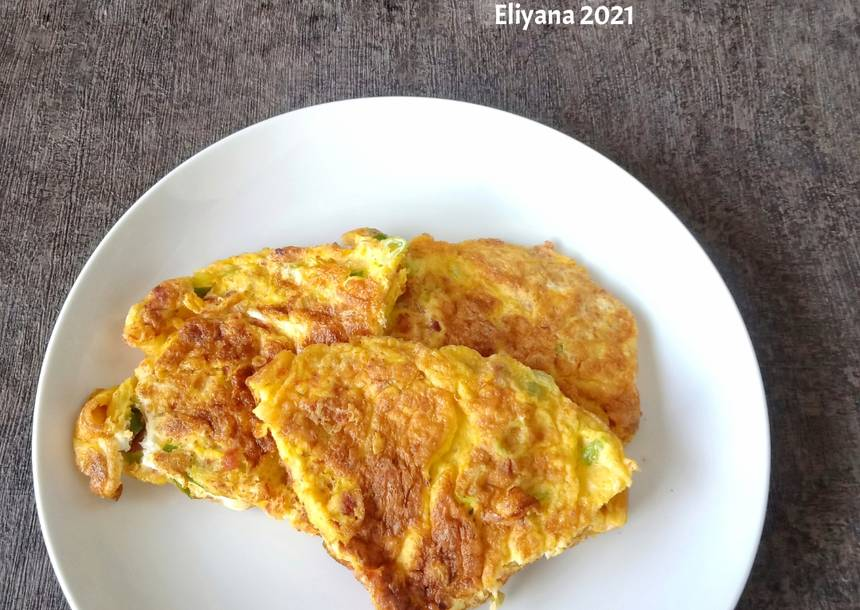Telur: (98, 203, 705, 604)
